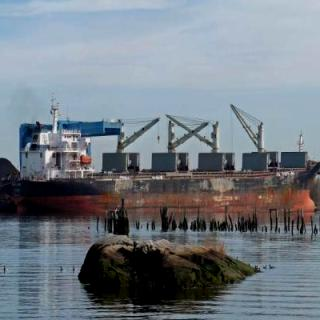Bulk Carrier: (3, 95, 320, 202)
